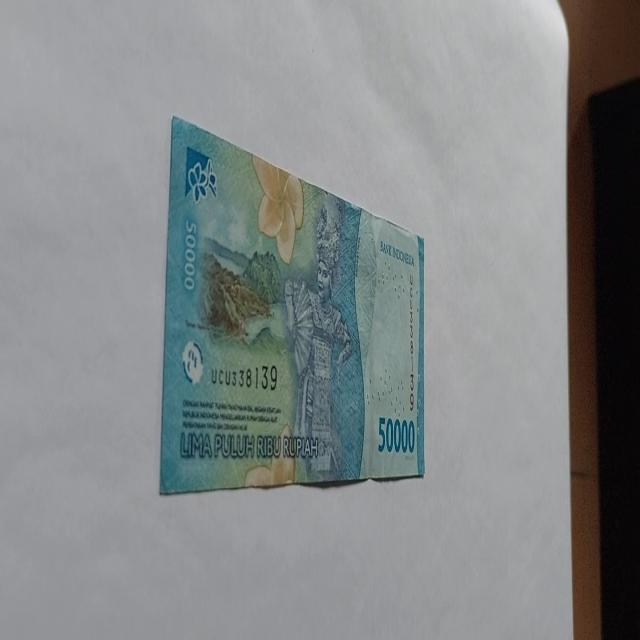lima puluh ribu rupiah: (158, 113, 426, 496)
